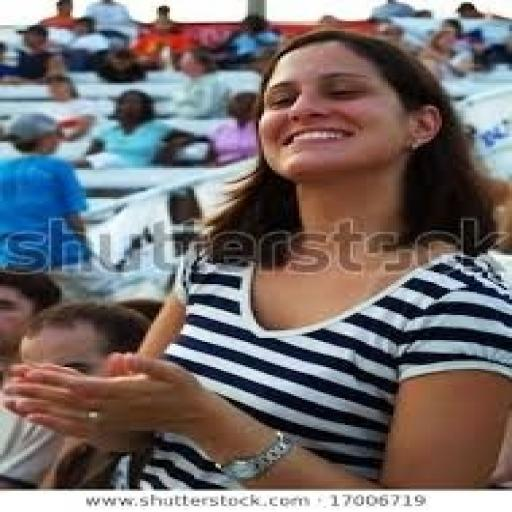clapping: (0, 23, 509, 488), (0, 110, 97, 274)
